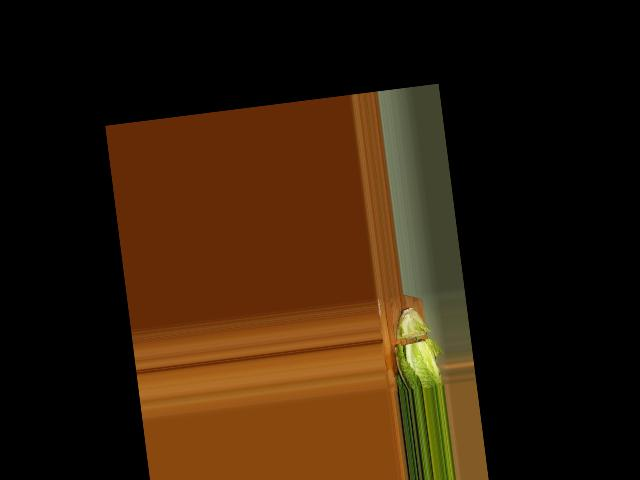lettuce: (384, 305, 445, 390)
